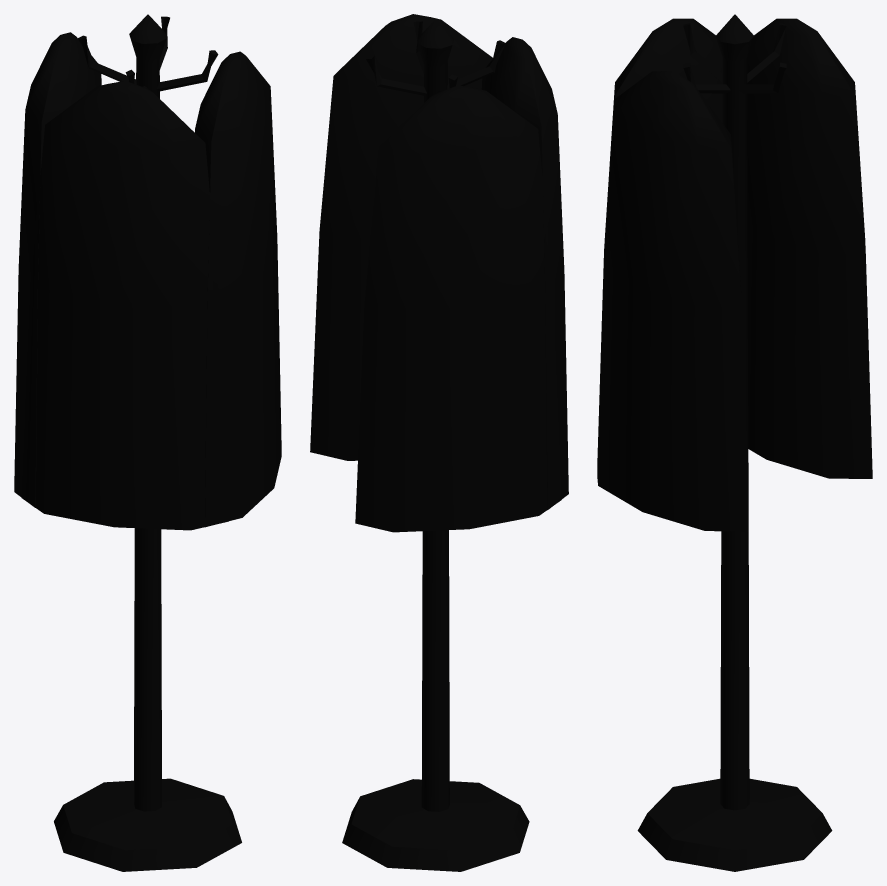
File: SM_coat_rack_coats.fbx
3 renders of one model, left to right at view 1: azimuth 30°, elevation 25°; view 2: azimuth 150°, elevation 25°; view 3: azimuth 270°, elevation 25°, orthographic.
Visible parts, largest first — view 1: coat_rack_coats; view 2: coat_rack_coats; view 3: coat_rack_coats.
Boxes of the visible parts, left/top/right/bottom form: coat_rack_coats: left=14, top=14, right=281, bottom=871; coat_rack_coats: left=310, top=14, right=568, bottom=871; coat_rack_coats: left=597, top=14, right=872, bottom=871.
Bounding box in the file's own units: 0.5657 × 1.85 × 0.5657.
